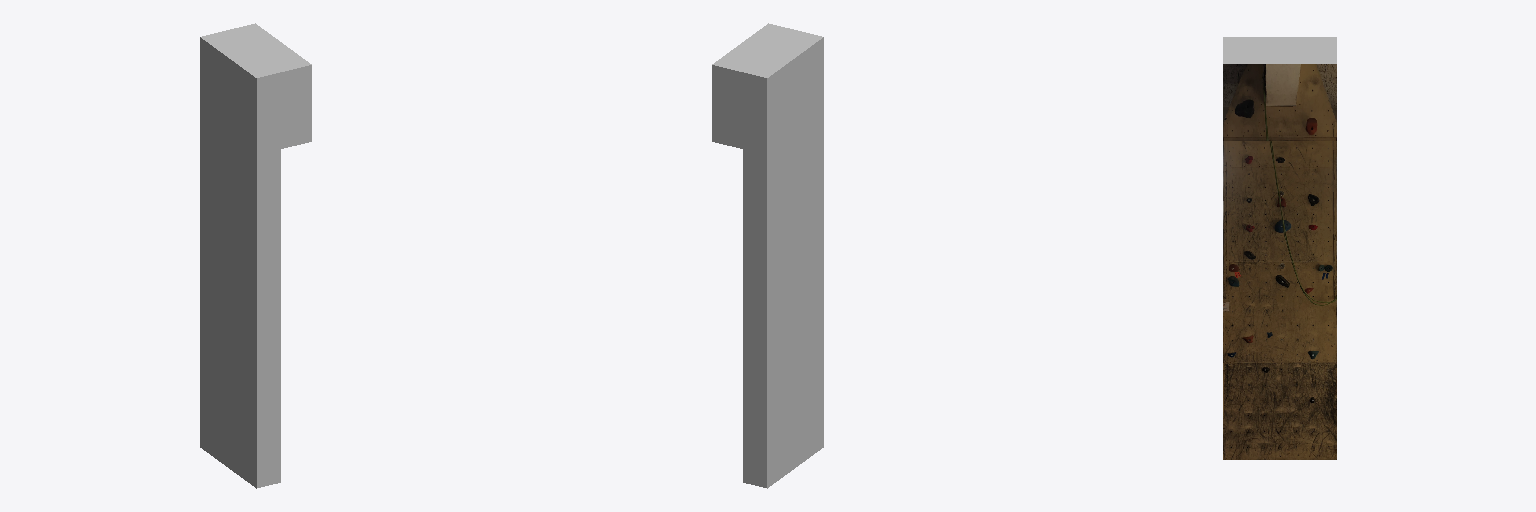
3 renders of one model, left to right at view 1: azimuth 30°, elevation 25°; view 2: azimuth 150°, elevation 25°; view 3: azimuth 270°, elevation 25°, orthographic.
Parts seen in each view (by area): view 1: Cube; view 2: Cube; view 3: Cube.
Part boxes in pixels (x1,y1,x2,y2): Cube: (200, 23, 311, 488); Cube: (712, 23, 823, 488); Cube: (1223, 37, 1336, 459).
Bounding box in the file's own units: 0.68 × 4.8 × 1.2.
2 materials, 1 textured.